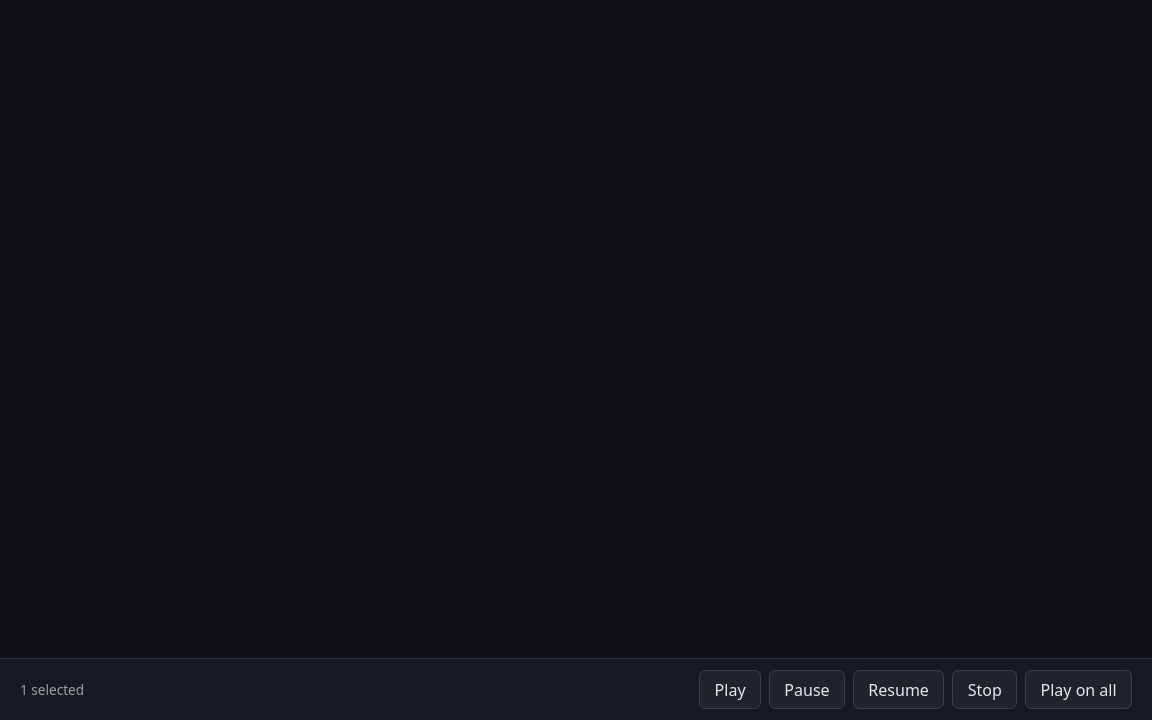
Test: reporting the result › reports a command every TV refused as an error with the reasons
Click the button "Pause". click: coordinates (807, 690)
box: [769, 670, 845, 709]
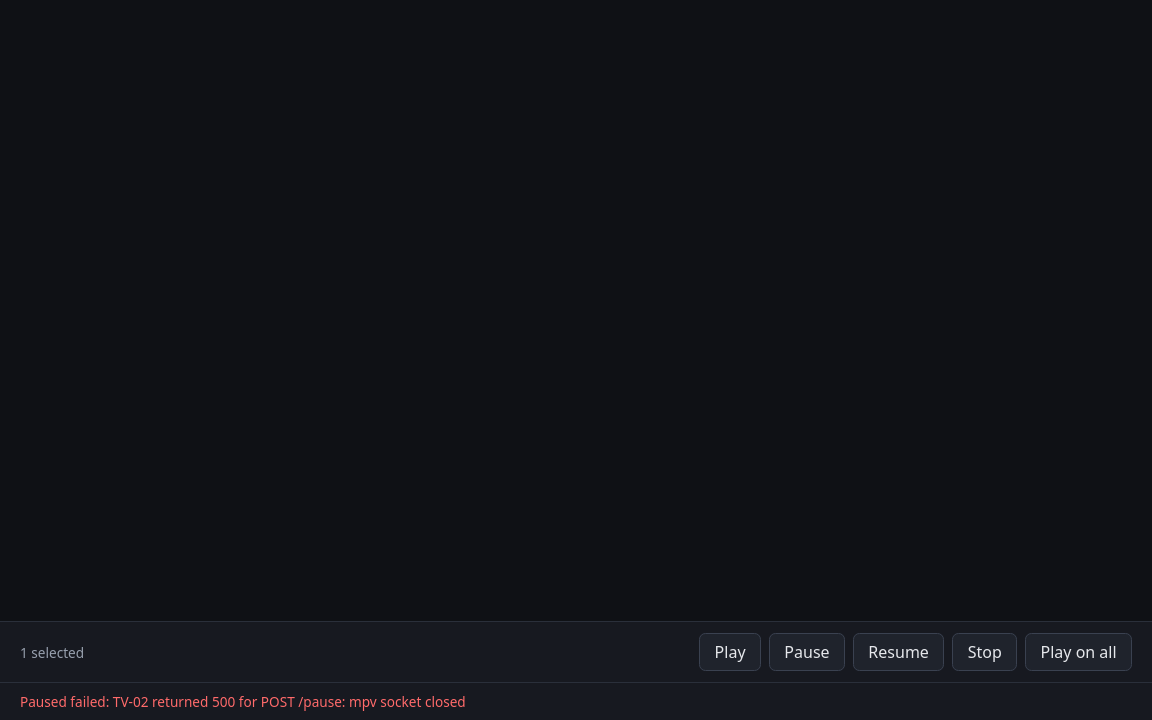
Check: the message shows "Paused failed", box [20, 692, 466, 711]
Check: the message shows "mpv socket closed", box [20, 692, 466, 711]
